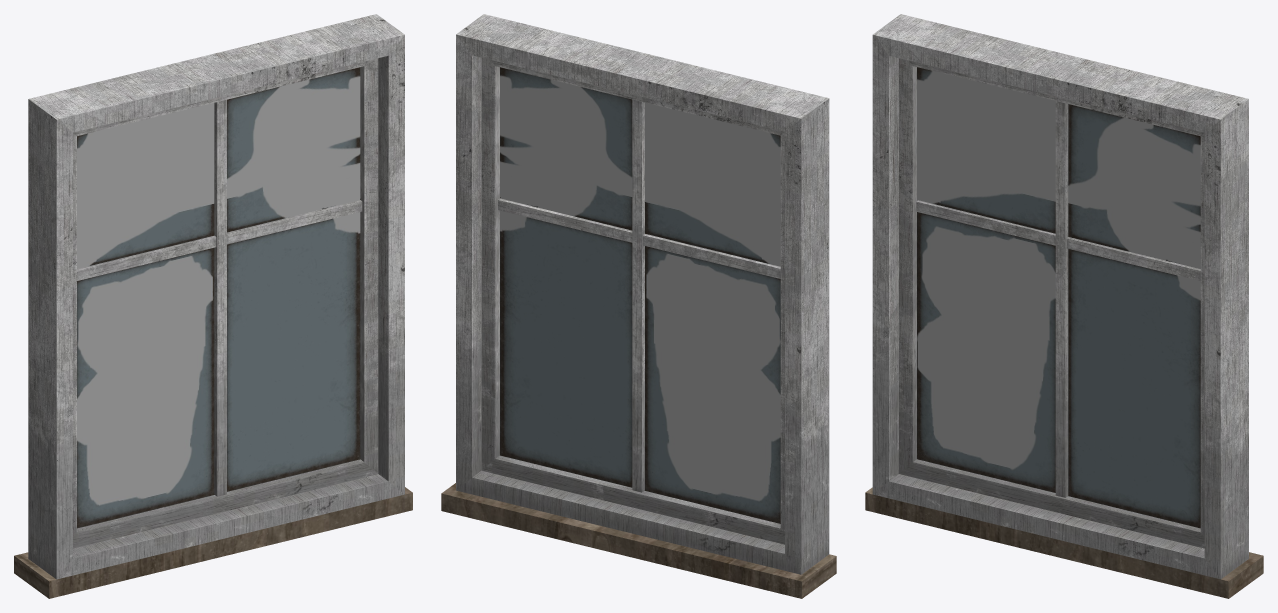
The model's file is broken_window.fbx.
3 views of the same model, side by side, from view 1: azimuth 30°, elevation 25°; view 2: azimuth 150°, elevation 25°; view 3: azimuth 330°, elevation 25° (orthographic).
Visible parts, largest first — view 1: defaultMaterial, defaultMaterial.002, defaultMaterial.001; view 2: defaultMaterial, defaultMaterial.002, defaultMaterial.001; view 3: defaultMaterial, defaultMaterial.002, defaultMaterial.001.
Boxes of the visible parts, bbox=[...] form: defaultMaterial: bbox=[77, 67, 360, 528]; defaultMaterial.002: bbox=[28, 14, 404, 579]; defaultMaterial.001: bbox=[14, 487, 412, 598]; defaultMaterial: bbox=[500, 67, 780, 523]; defaultMaterial.002: bbox=[456, 14, 829, 574]; defaultMaterial.001: bbox=[441, 483, 836, 598]; defaultMaterial: bbox=[917, 67, 1200, 528]; defaultMaterial.002: bbox=[872, 14, 1248, 579]; defaultMaterial.001: bbox=[865, 487, 1263, 598].
Size of the model in its own units: 1.59 by 2 by 0.2661.
2 materials, 2 textured.
